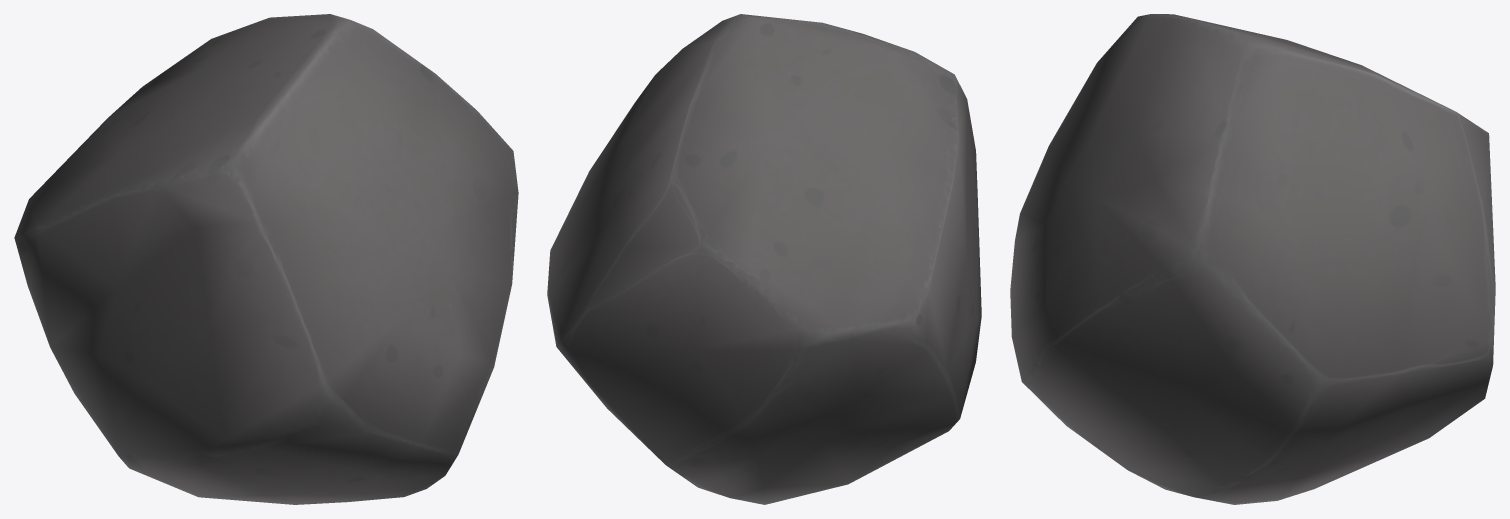
The model's file is Rock01.fbx.
The picture shows the model from 3 angles, left to right: view 1: azimuth 30°, elevation 25°; view 2: azimuth 150°, elevation 25°; view 3: azimuth 270°, elevation 25°; orthographic projection. The views are drawn at different scales.
Parts seen in each view (by area): view 1: Rock01_LOD0; view 2: Rock01_LOD0; view 3: Rock01_LOD0.
Part boxes in pixels (x1,y1,x2,y2): Rock01_LOD0: (14,14,518,504); Rock01_LOD0: (547,14,981,504); Rock01_LOD0: (1010,14,1495,504).
Size of what is drawn, in the model's own units: 1.82 by 1.82 by 1.99.
Materials: 1 (1 with a texture image).
